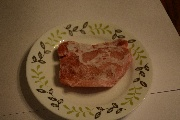beef: (53, 38, 132, 87)
